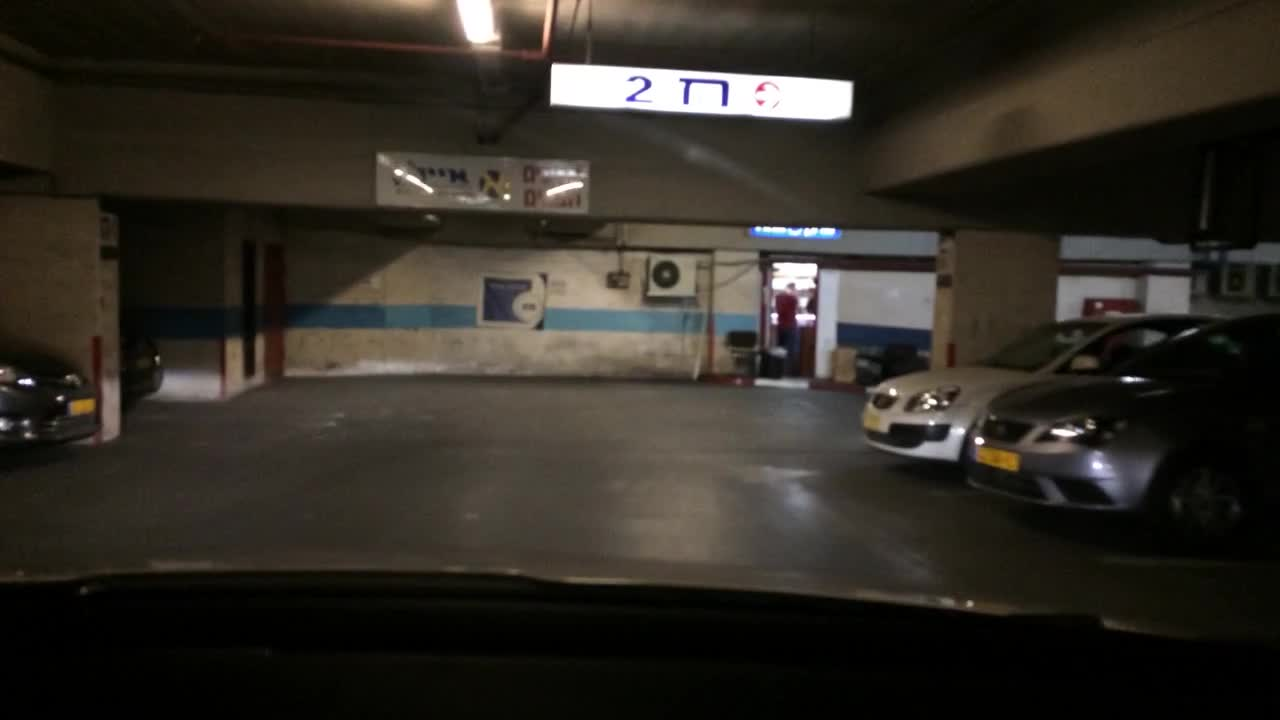car: (964, 304, 1277, 543), (862, 314, 1234, 474), (0, 332, 99, 465), (116, 331, 165, 401)
person: (773, 284, 802, 378), (805, 275, 820, 317)
